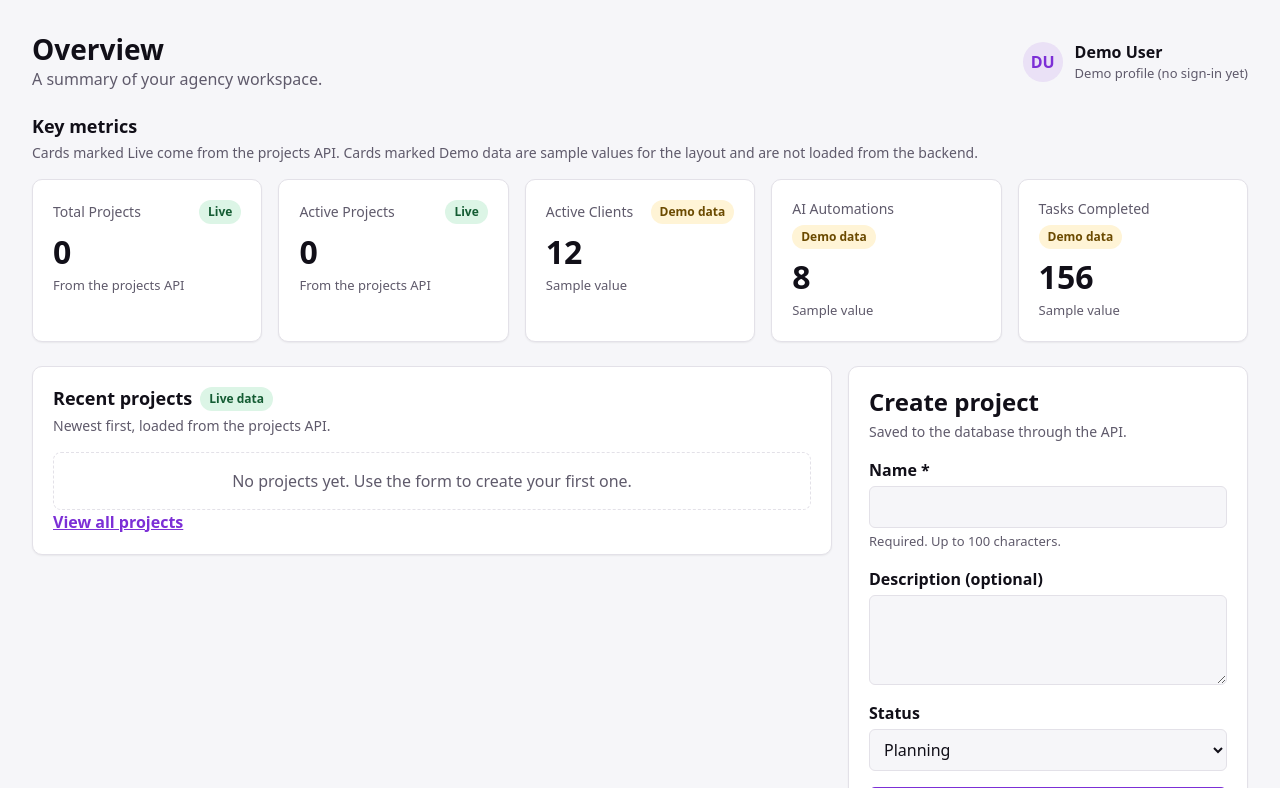
Test case: Create project form › creates a project, then refreshes the count and list
This screenshot has width=1280, height=788.
Expected: the text "No projects yet. Use the form to create your first one." is shown, [53,452,811,510]
Type "  New website  " into the field labelled "Name *". click: (1048, 506)
box: [869,486,1227,528]
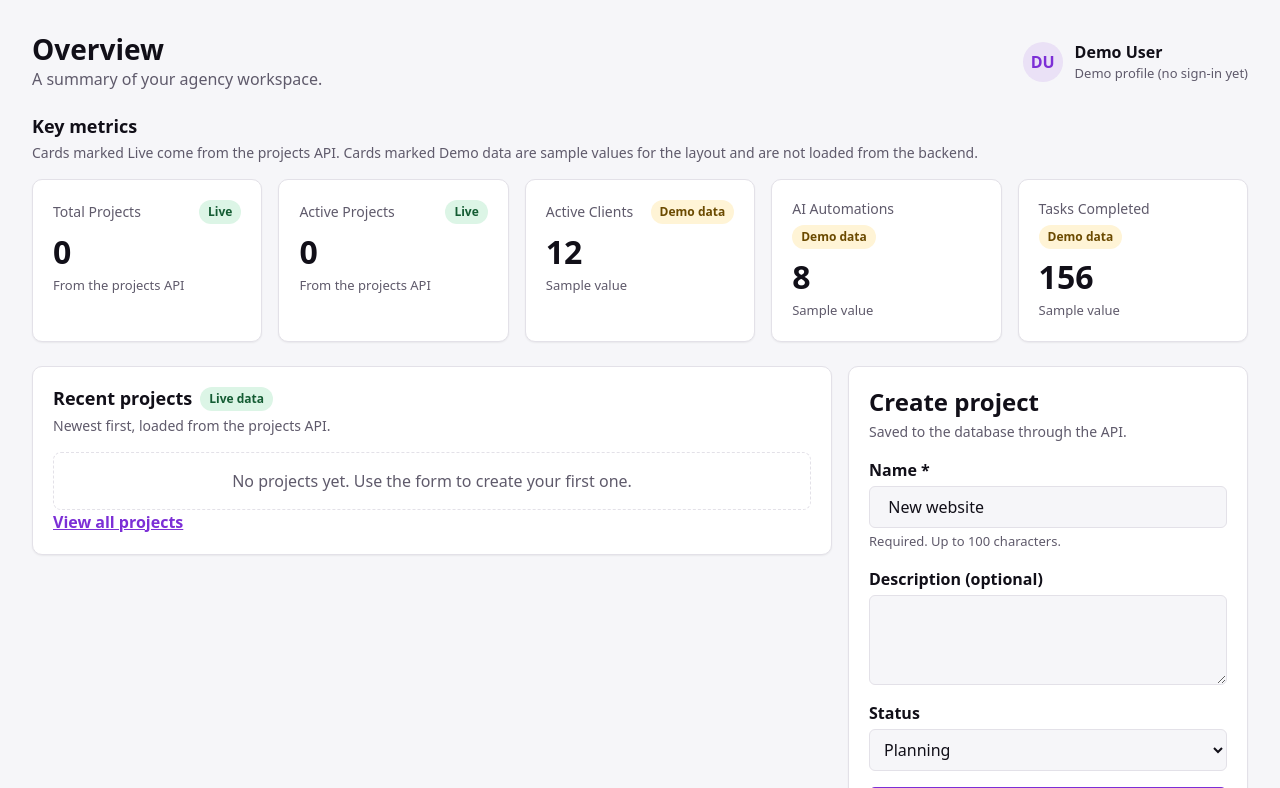
Type "Landing page" into the text box labelled "Description (optional)". click: (1048, 640)
box: [869,595,1227,685]
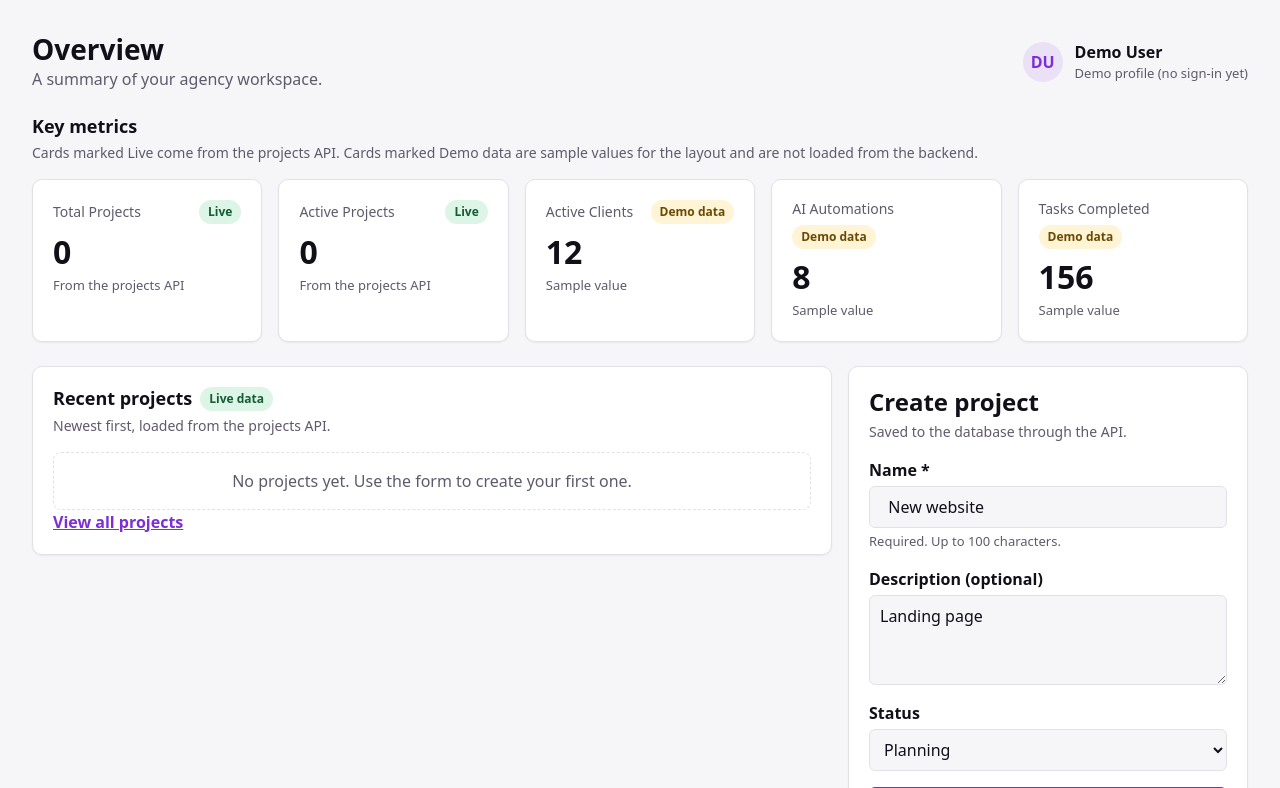
Select "Active" in the dropdown labelled "Status". click: (1048, 750)
box: [869,729,1227,771]
(page scrolled)
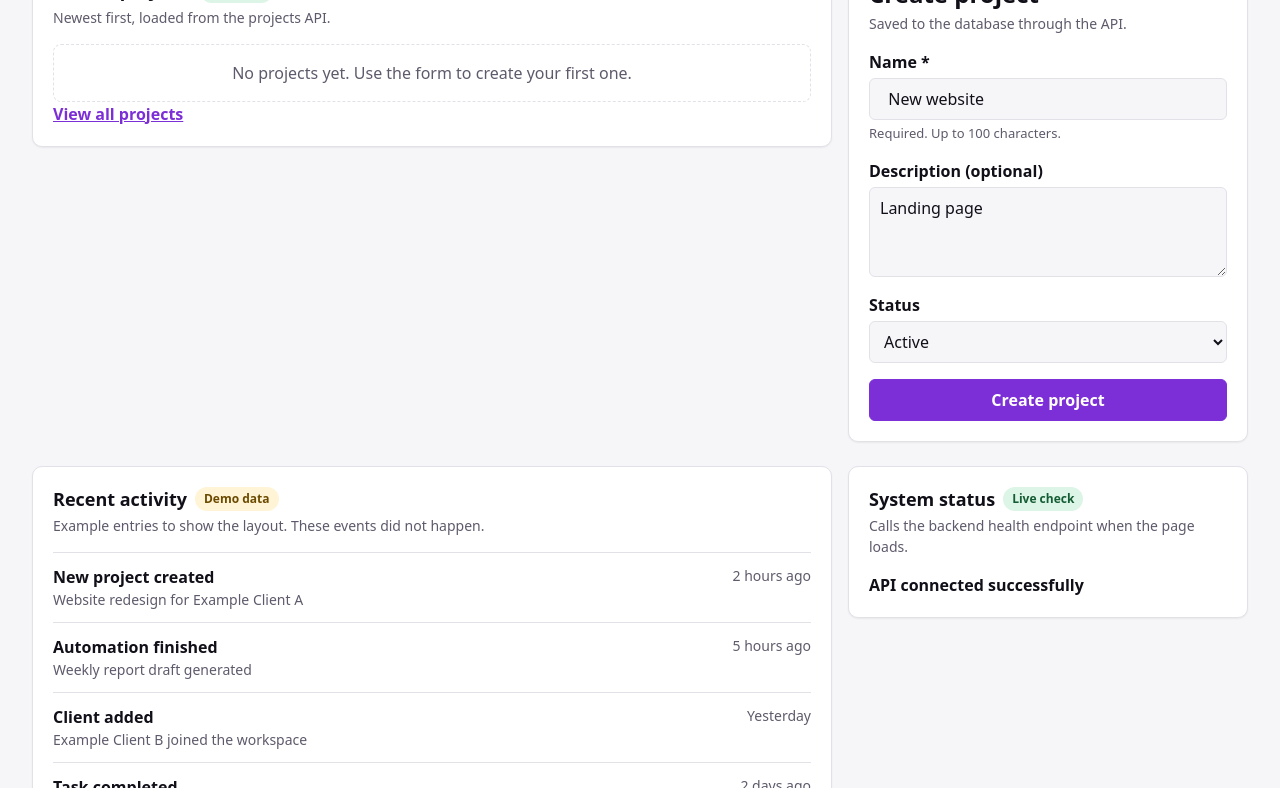
Click the button "Create project". click: (1048, 400)
box: [869,379,1227,421]
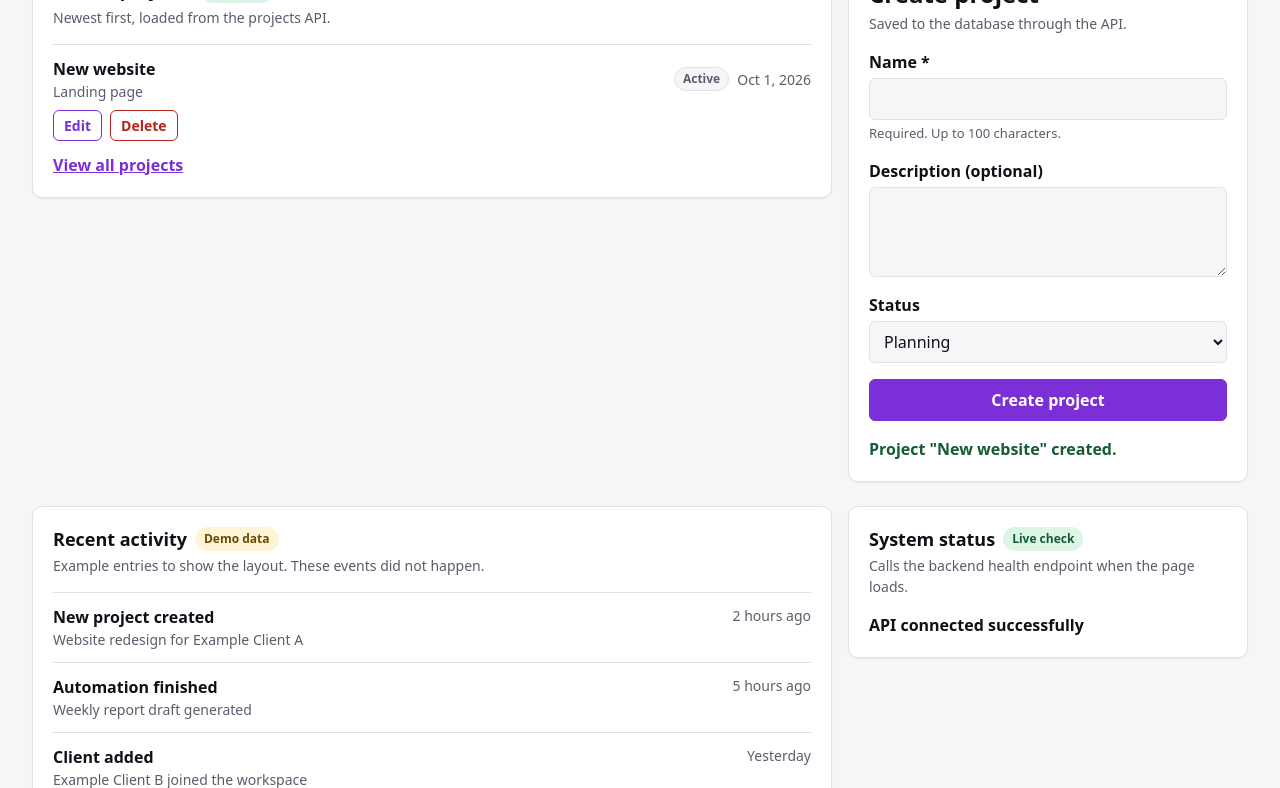
Now the text "Project \"New website\" created." is shown, box [869,438,1117,460]
Now the field labelled "Name *" is empty, box [869,78,1227,120]
